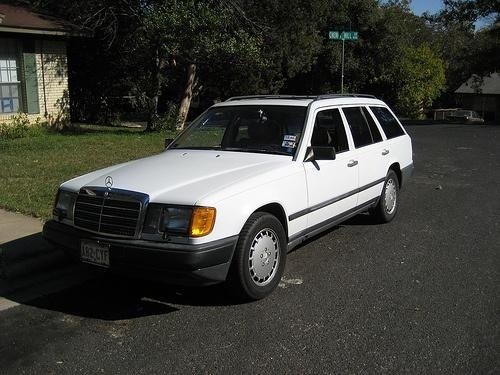car: (43, 82, 418, 306)
